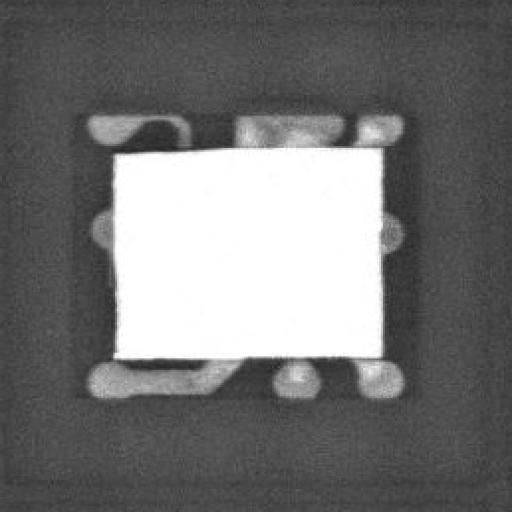DIE_BROKEN: (111, 144, 238, 158)
